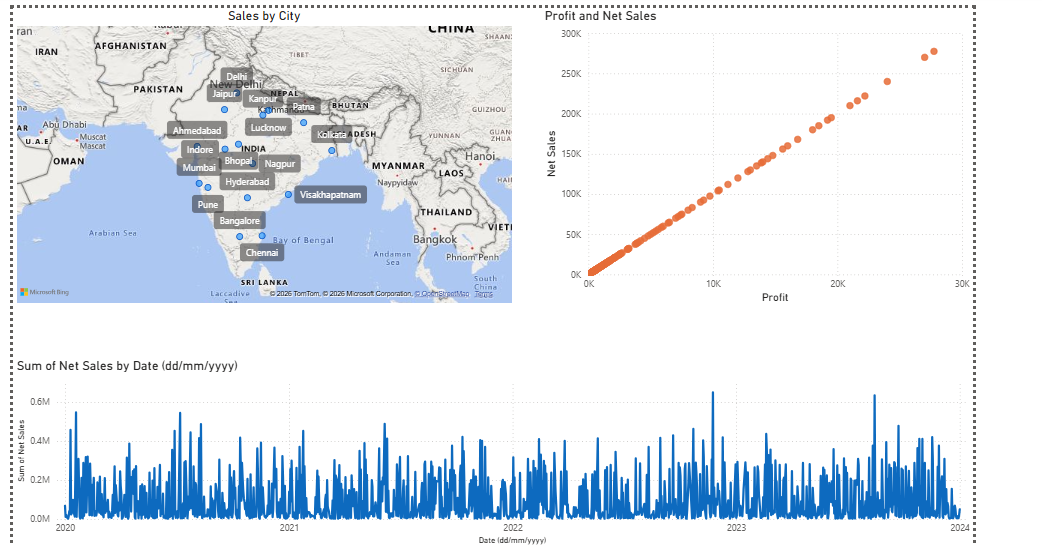

The page's visual inventory and layout, read from the dashboard file:
{"tool":"powerbi","page":{"name":"Overview","canvas":[1280,720],"ordinal":1},"visuals":[{"type":"lineChart","title":"Sales trend by Period of time","fields":{"Category":["Fact Table.Date (dd/mm/yyyy).Variation.Date Hierarchy.Year"],"Y":["Sum(Fact Table.Net Sales)"]},"box":[258.3,490,788.3,230],"z":0},{"type":"scatterChart","title":"Profit VS Net Sales","fields":{"X":["Fact Table.Profit"],"Y":["Fact Table.Net Sales"]},"box":[725,0,543.3,441.7],"z":1000},{"type":"map","title":"Sales by City","fields":{"Category":["Dim Customers.City"],"Size":["Sum(Fact Table.Net Sales)"]},"box":[0,71.4,480,325.7],"z":2000}]}

Visuals, with their boxes on the page's 1280x720 design canvas (x1, y1, x2, y2). These are canvas units, not pixel positions in the 1042x545 screenshot, which may show the page scaled, cropped or inside an application window:
"Sales trend by Period of time" lineChart: (258,490,1047,720)
"Profit VS Net Sales" scatterChart: (725,0,1268,442)
"Sales by City" map: (0,71,480,397)
